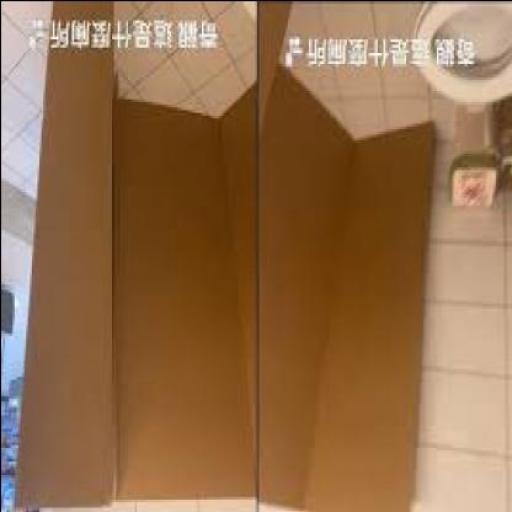cardboard: (15, 2, 256, 510), (257, 2, 441, 511)
